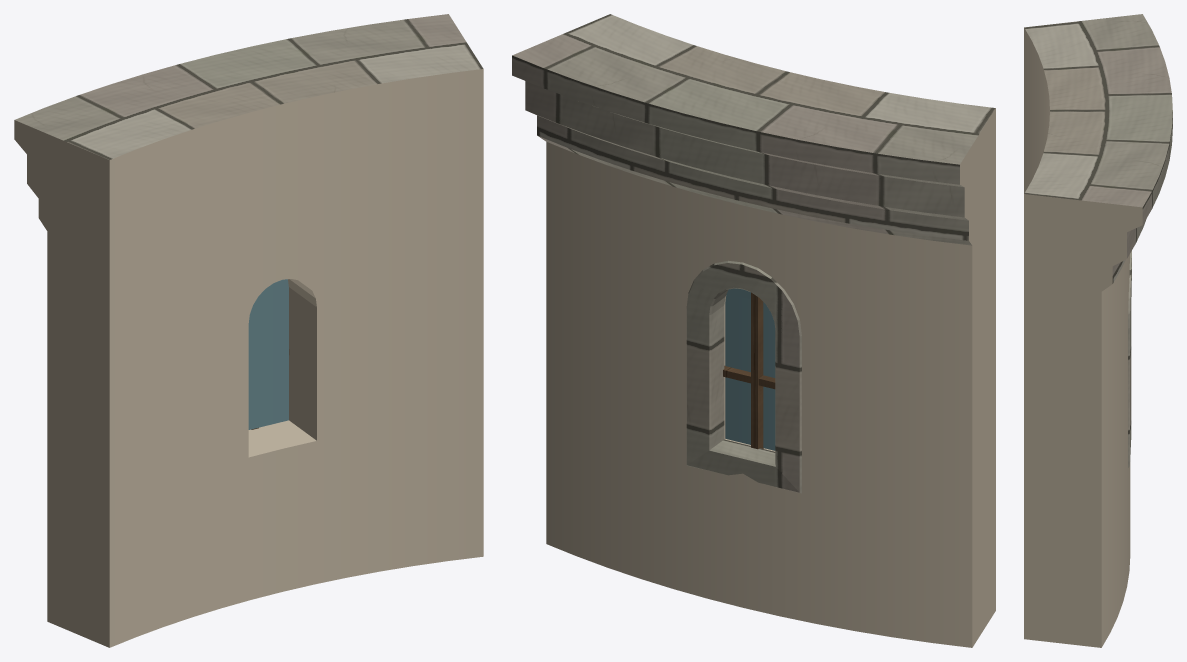
File: Furn_Tower3_R45_TopWindow.fbx
3 views of the same model, side by side, from view 1: azimuth 30°, elevation 25°; view 2: azimuth 150°, elevation 25°; view 3: azimuth 270°, elevation 25° (orthographic). The views are drawn at different scales.
Visible parts, largest first — view 1: Furn_Tower3_R45_TopWindow; view 2: Furn_Tower3_R45_TopWindow; view 3: Furn_Tower3_R45_TopWindow.
Boxes of the visible parts, x1,y1,x2,y2 form: Furn_Tower3_R45_TopWindow: (14,14,483,647); Furn_Tower3_R45_TopWindow: (512,14,995,647); Furn_Tower3_R45_TopWindow: (1024,14,1172,647).
Bounding box in the file's own units: 2.8 × 3 × 0.9084.
